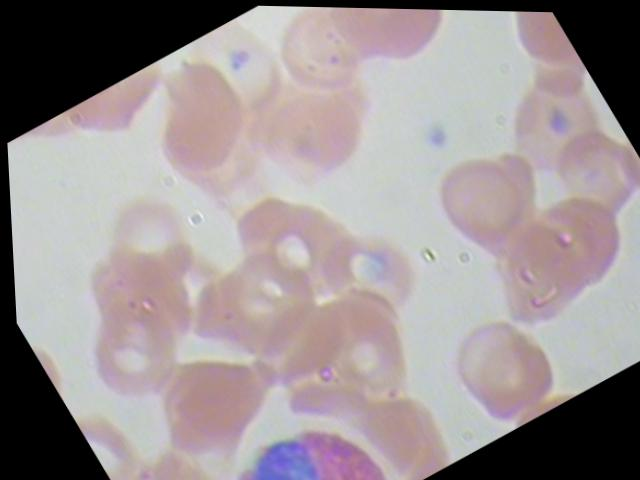Platelets: (213, 33, 267, 84), (410, 107, 464, 157)
Red Blood Cells: (125, 323, 310, 479), (239, 52, 412, 216), (201, 165, 373, 329), (116, 39, 277, 199), (277, 272, 438, 431), (480, 53, 640, 211), (68, 164, 227, 322), (422, 289, 577, 442), (457, 202, 612, 355), (398, 125, 553, 277), (53, 279, 204, 422), (502, 165, 639, 320), (246, 4, 395, 123), (300, 209, 435, 340), (527, 105, 639, 255), (324, 6, 471, 85)
White Blood Cells: (189, 396, 398, 479)
